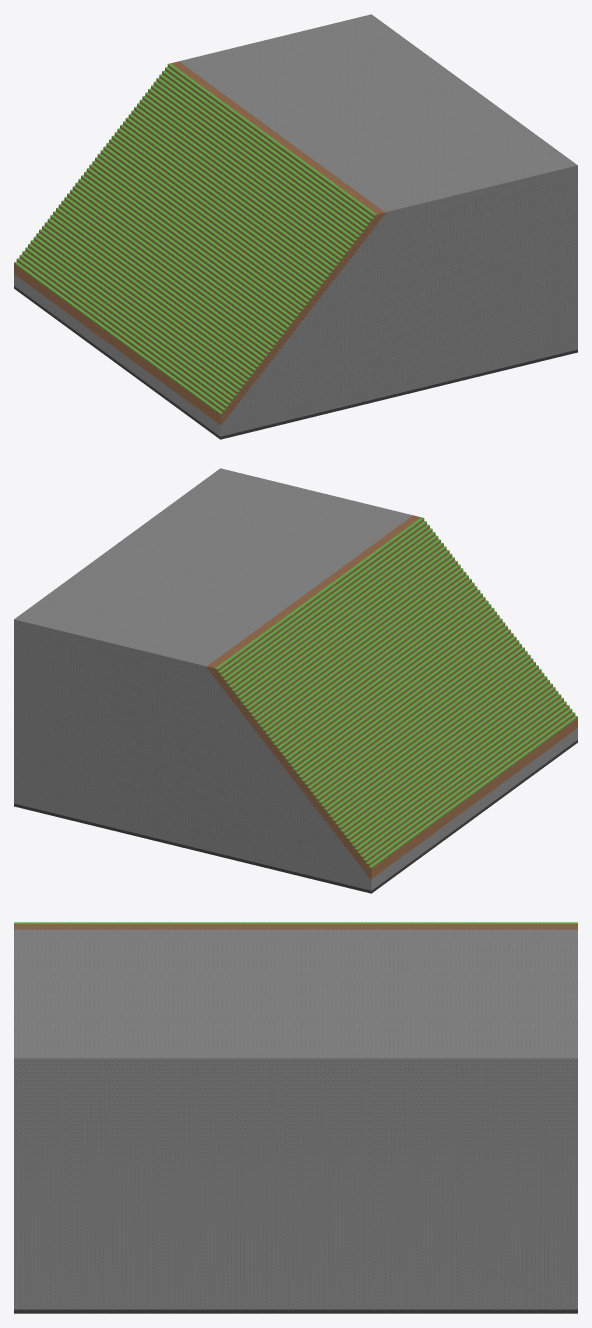
File: etape5-falaise.glb
3 views of the same model, one above another, from view 1: azimuth 30°, elevation 25°; view 2: azimuth 150°, elevation 25°; view 3: azimuth 270°, elevation 25° (orthographic). The views are drawn at different scales.
Parts seen in each view (by area): view 1: world; view 2: world; view 3: world.
Part boxes in pixels (x1,y1,x2,y2): world: [14, 14, 577, 439]; world: [14, 468, 577, 893]; world: [14, 922, 577, 1313].
Bounding box in the file's own units: 128 × 64 × 128.
5 materials, 5 textured.
